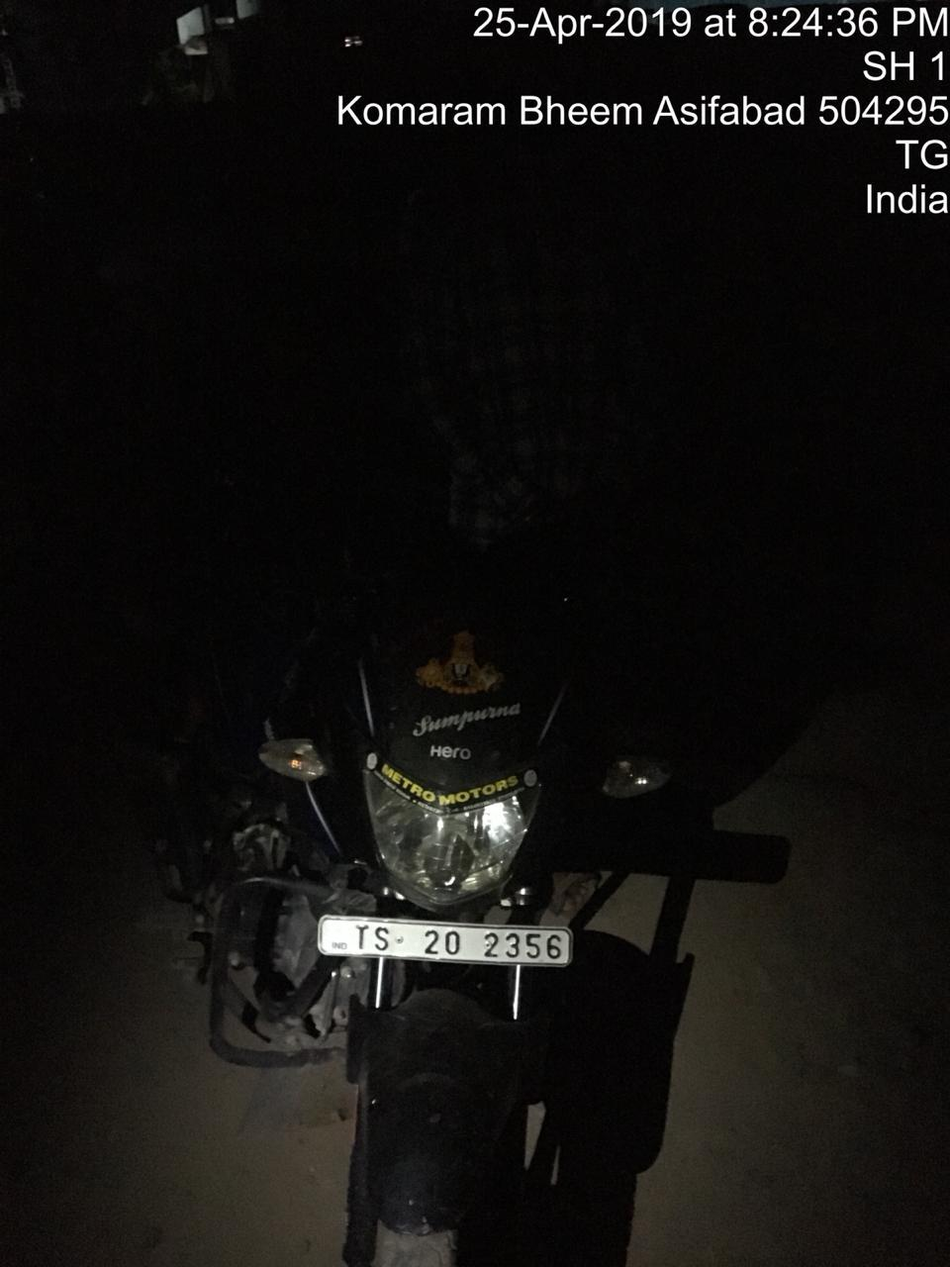plate: (280, 883, 612, 1003)
